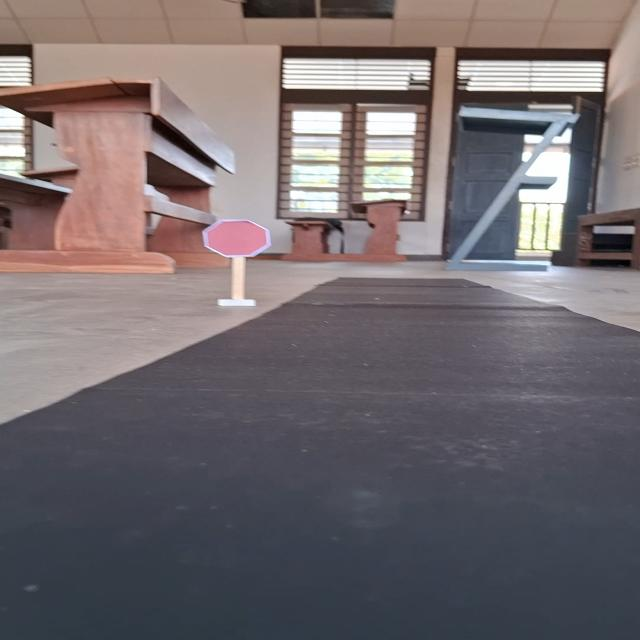Stop: (199, 217, 273, 258)
